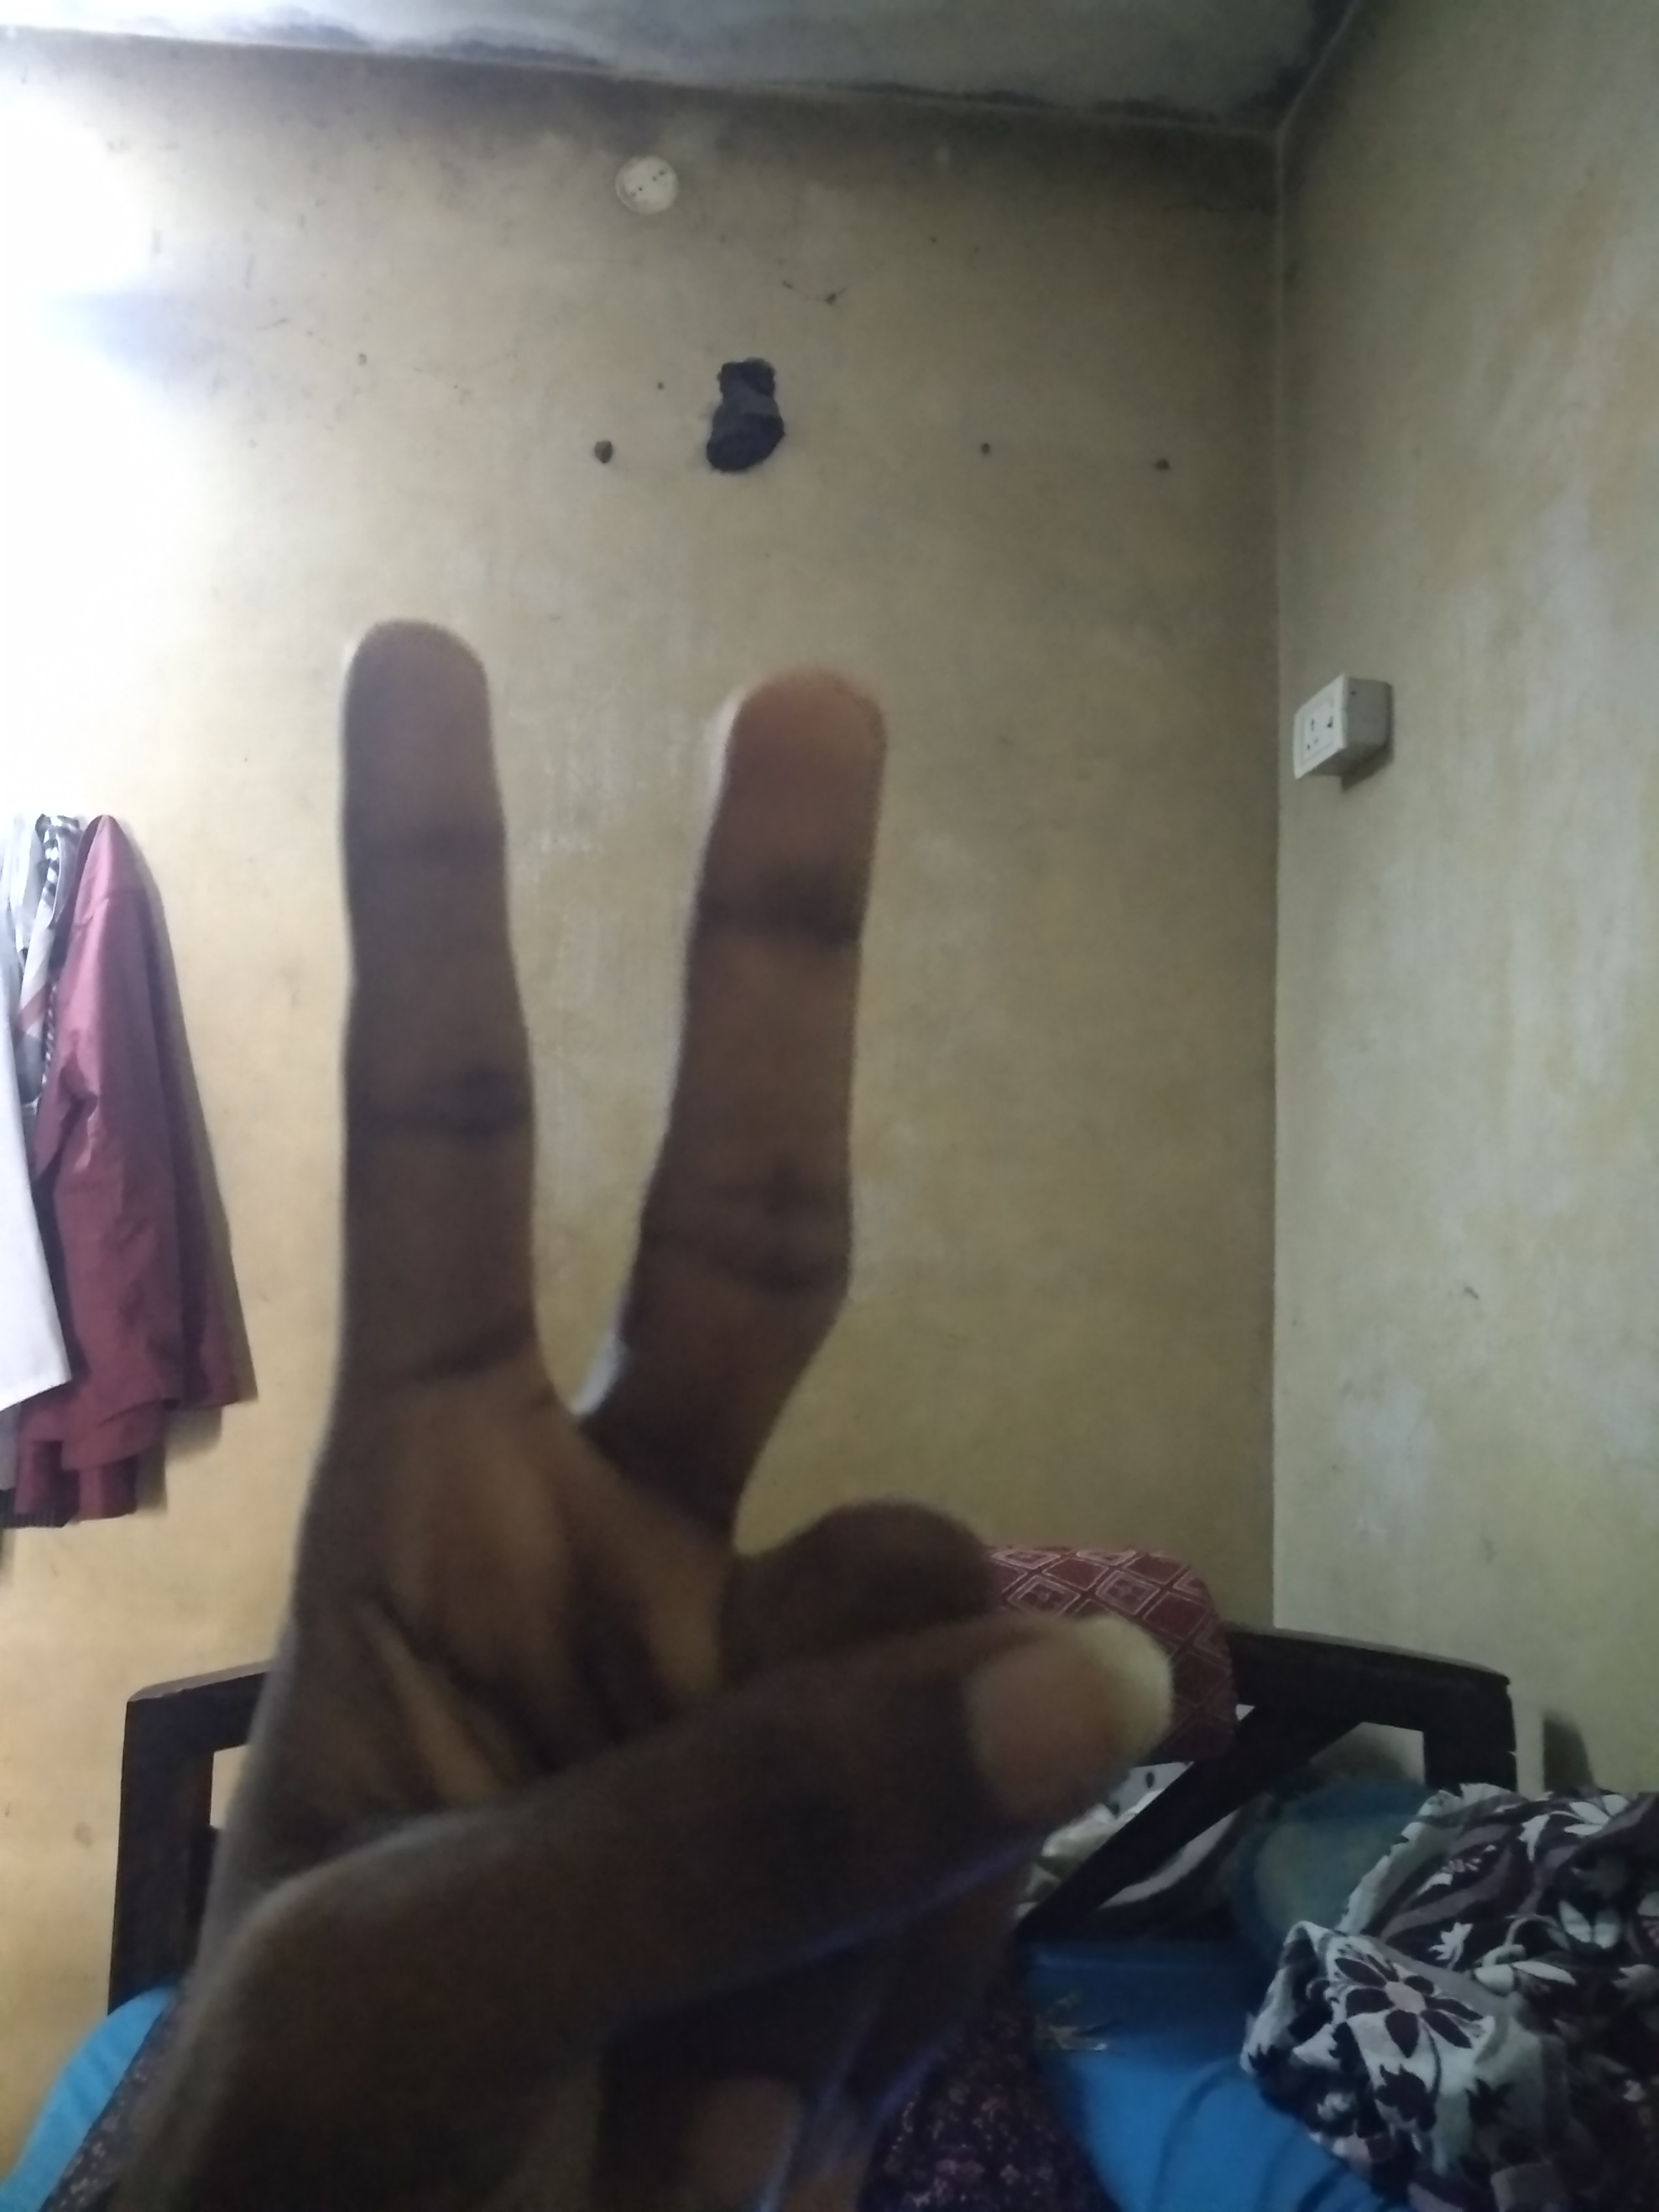two: (291, 599, 619, 871)
